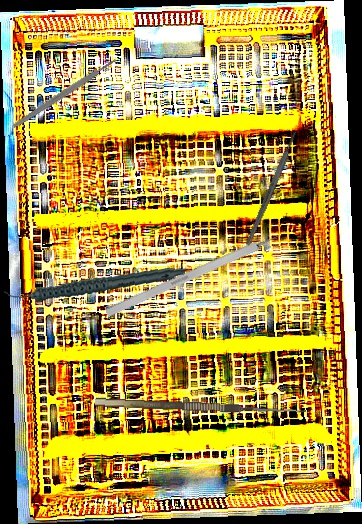Handpiece: (3, 252, 186, 315)
Hook Surgical: (104, 226, 294, 318), (95, 385, 307, 418)
Scalpel Handle: (11, 57, 118, 130), (244, 129, 299, 247)
